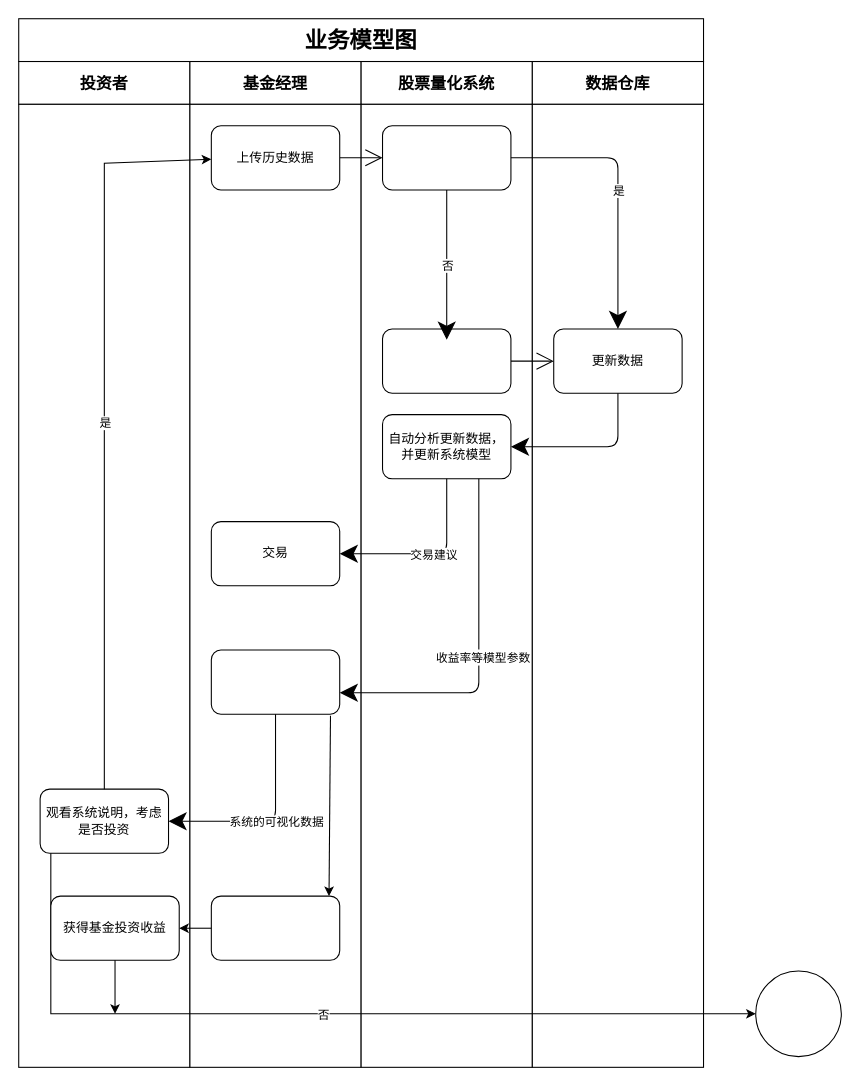
Some shapes in this 860 by 1086 pixel diagram are drawn without their labels. Each missing label, with the box of its shape:
分析系统效果并计算收益: (210, 649, 340, 714)
判断是否符合数据格式: (381, 125, 511, 190)
处理数据: (381, 328, 511, 393)
根据分层奖励机制获得奖金: (210, 895, 340, 960)
结束: (755, 970, 841, 1057)
